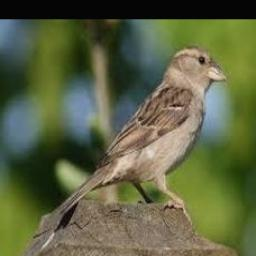Sparrow: (61, 47, 226, 219)
